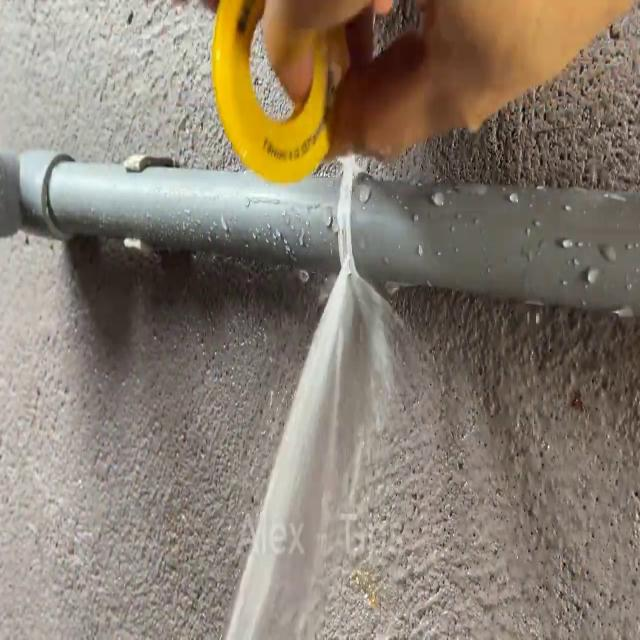leak: (219, 268, 396, 640)
